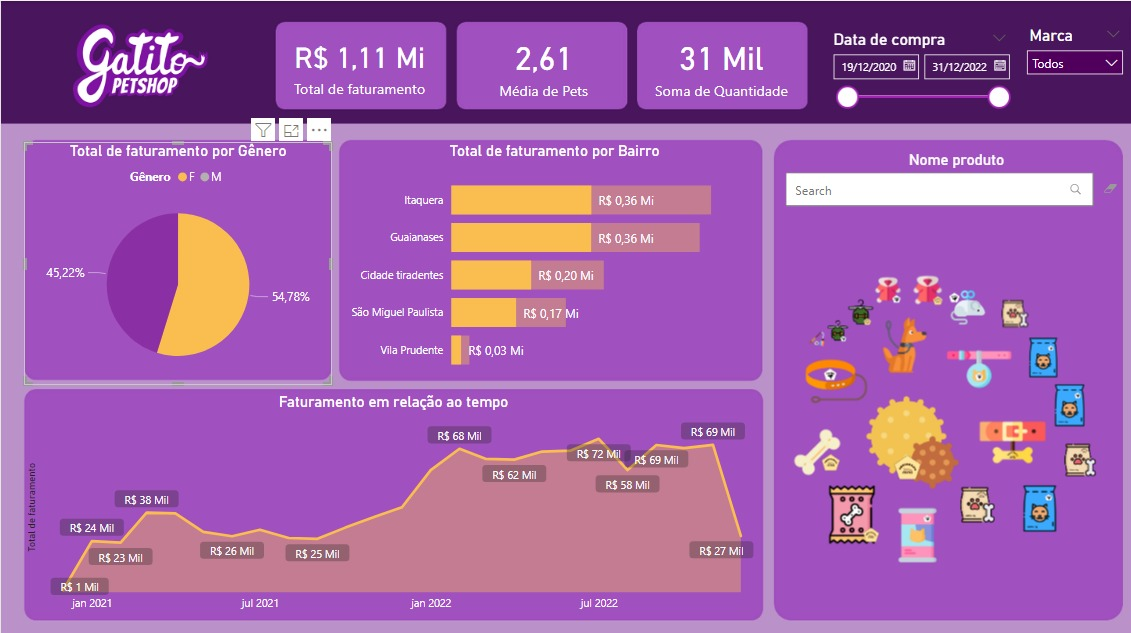

The page's visual inventory and layout, read from the dashboard file:
{"tool":"powerbi","page":{"name":"Página 1","canvas":[1280,720],"ordinal":0},"visuals":[{"type":"card","fields":{"Values":["Vendas.Total de faturamento"]},"box":[308.7,23.2,187.8,96.5],"z":0},{"type":"card","fields":{"Values":["Avg(Clientes.Pets)"]},"box":[515.9,23.2,187.8,96.5],"z":1000},{"type":"card","fields":{"Values":["Sum(Vendas.Quantidade)"]},"box":[712.7,23.2,194.3,96.5],"z":2000},{"type":"pieChart","fields":{"Category":["Clientes.Gênero"],"Y":["Vendas.Total de faturamento"]},"box":[25.7,158.2,346.1,272.7],"z":3000},{"type":"clusteredBarChart","fields":{"Category":["Clientes.Bairro"],"Y":["Vendas.Total de faturamento"]},"box":[379.7,158.4,484.1,272.9],"z":4000},{"type":"areaChart","title":"Faturamento em relação ao tempo","fields":{"Category":["Vendas.Data de compra.Variation.Hierarquia de datas.Ano","Vendas.Data de compra.Variation.Hierarquia de datas.Trimestre","Vendas.Data de compra.Variation.Hierarquia de datas.Mês","Vendas.Data de compra.Variation.Hierarquia de datas.Dia"],"Y":["Vendas.Total de faturamento"]},"box":[24.7,440.3,832.3,253.9],"z":5000},{"type":"ImageGrid_FC5183B9_926C_45E0_B5F7_0CE9EAF1DA9B","fields":{"ImageURL":["Produtos.Url img"]},"box":[863.8,230.3,394.3,478.5],"z":6000},{"type":"textFilter25A4896A83E0487089E2B90C9AE57C8A","fields":{"field":["Produtos.Nome produto"]},"box":[876.1,168.5,394.3,71.9],"z":7000},{"type":"slicer","fields":{"Values":["Produtos.Marca"]},"box":[1142.3,22.7,127.6,103.6],"z":8000},{"type":"slicer","title":"Data de Compra","fields":{"Values":["Vendas.Data de compra"]},"box":[922.4,26.5,219.9,164.3],"z":9000}]}

Visuals, with their boxes in screenshot pixels (x1, y1, x2, y2), scaled from the page's 1280x720 canvas onto the 1131x633 screenshot:
card - Vendas.Total de faturamento: box=[273, 20, 439, 105]
card - Avg(Clientes.Pets): box=[456, 20, 622, 105]
card - Sum(Vendas.Quantidade): box=[630, 20, 801, 105]
pieChart - Clientes.Gênero x Vendas.Total de faturamento: box=[23, 139, 329, 379]
clusteredBarChart - Clientes.Bairro x Vendas.Total de faturamento: box=[336, 139, 763, 379]
"Faturamento em relação ao tempo" areaChart: box=[22, 387, 757, 610]
ImageGrid_FC5183B9_926C_45E0_B5F7_0CE9EAF1DA9B - Produtos.Url img: box=[763, 202, 1112, 623]
textFilter25A4896A83E0487089E2B90C9AE57C8A - Produtos.Nome produto: box=[774, 148, 1123, 211]
slicer - Produtos.Marca: box=[1009, 20, 1122, 111]
"Data de Compra" slicer: box=[815, 23, 1009, 168]
